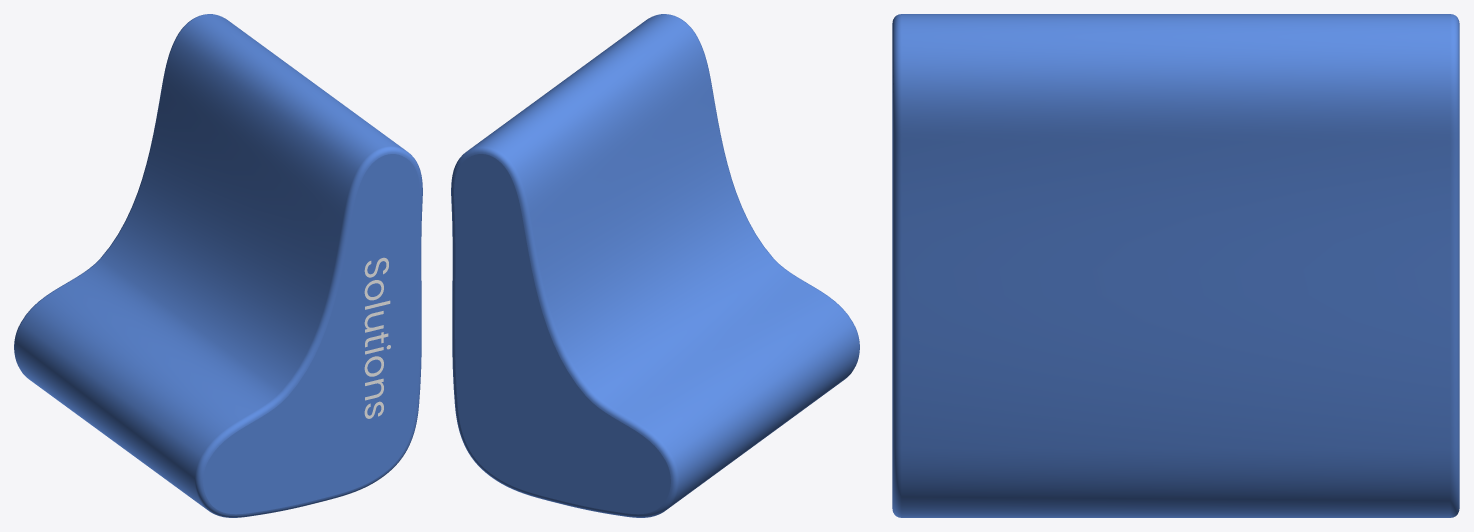
Rendered from right.gltf.
3 renders of one model, left to right at view 1: azimuth 30°, elevation 25°; view 2: azimuth 150°, elevation 25°; view 3: azimuth 270°, elevation 25°, orthographic. The views are drawn at different scales.
Visible parts, largest first — view 1: Blue 01, Text 2; view 2: Blue 01; view 3: Blue 01.
Boxes of the visible parts, x1=… form: Blue 01: x1=14, y1=14, x2=422, y2=517; Text 2: x1=364, y1=257, x2=390, y2=418; Blue 01: x1=451, y1=14, x2=859, y2=517; Blue 01: x1=892, y1=14, x2=1459, y2=517.
Bounding box in the file's own units: 0.1357 × 0.1935 × 0.1938.
